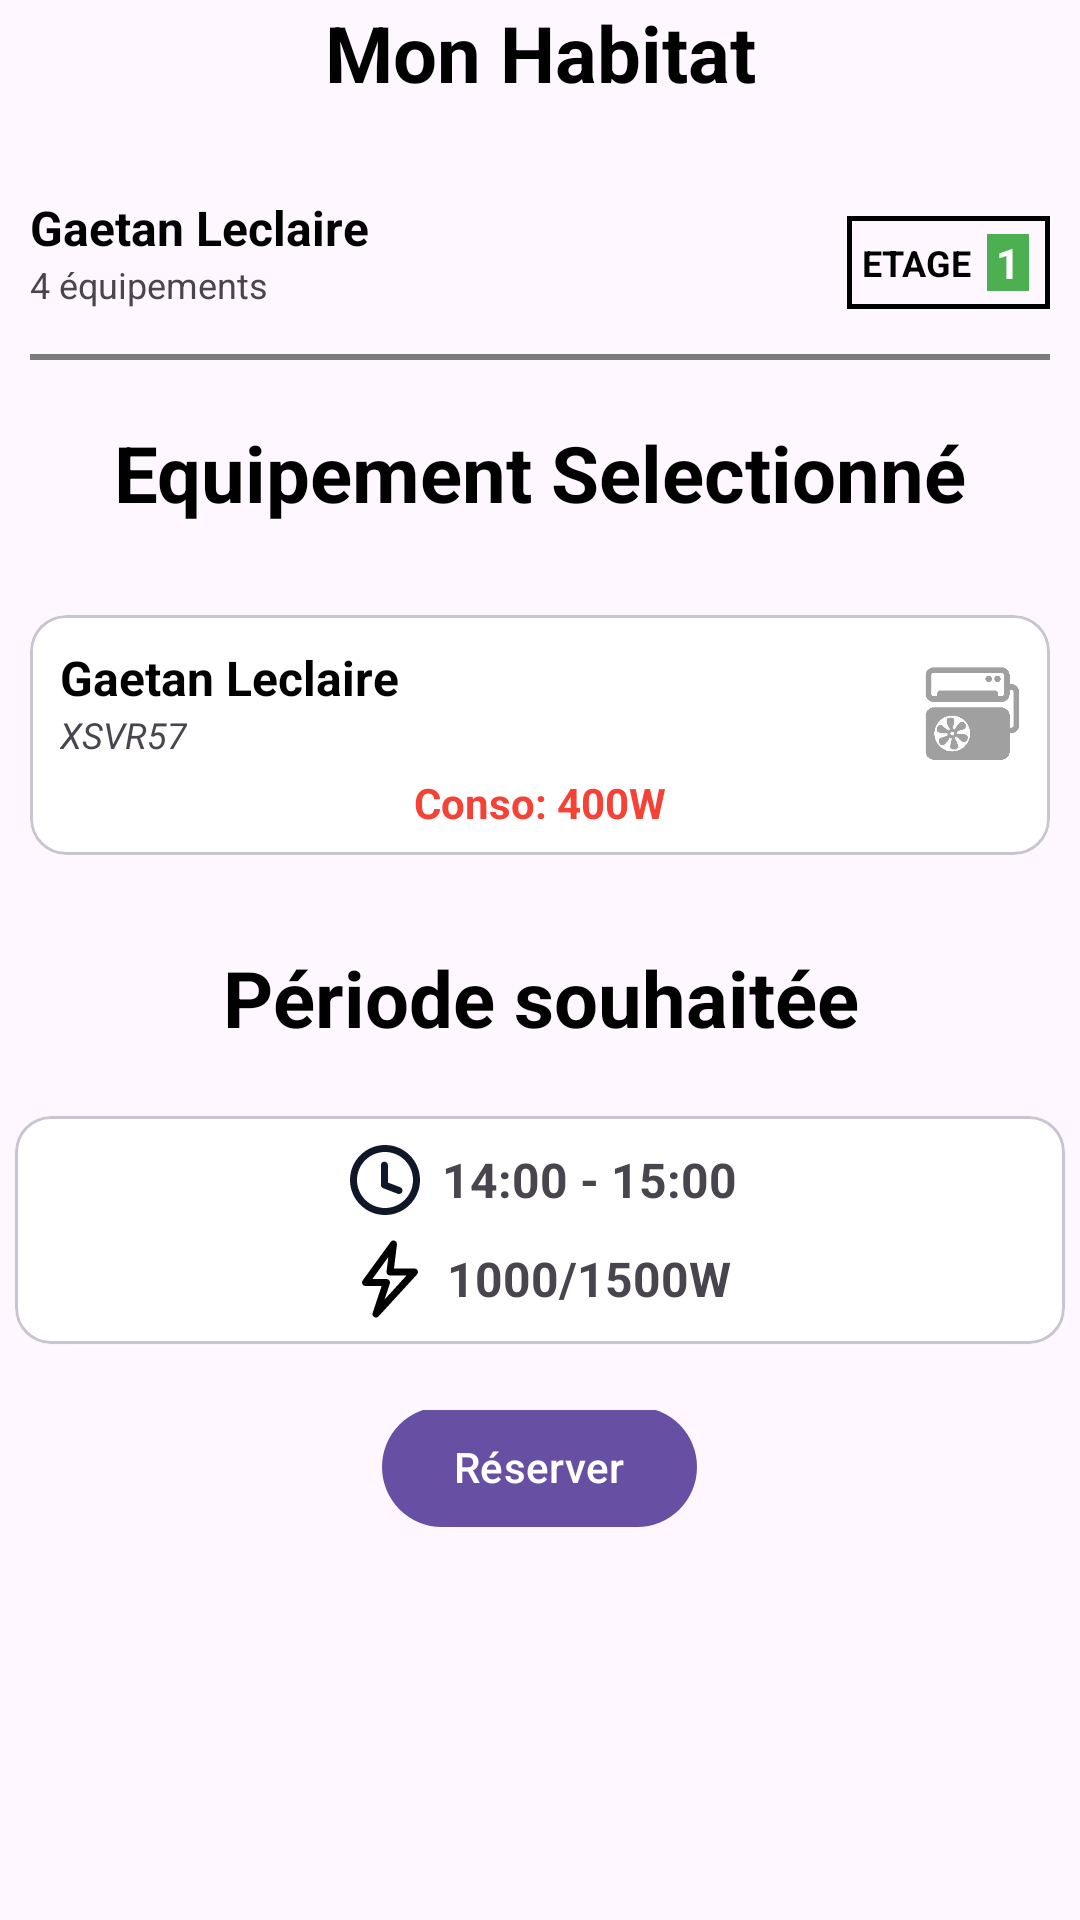

Icon bounding boxes for this 1080 × 1920 phone screenshot, format [x1, y1, x2, y2]:
power: [362, 1240, 418, 1318]
time: [350, 1145, 420, 1215]
